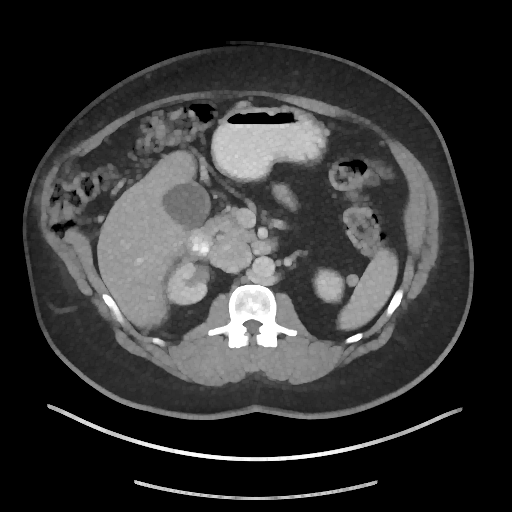Lesion: (188, 263, 213, 285)
